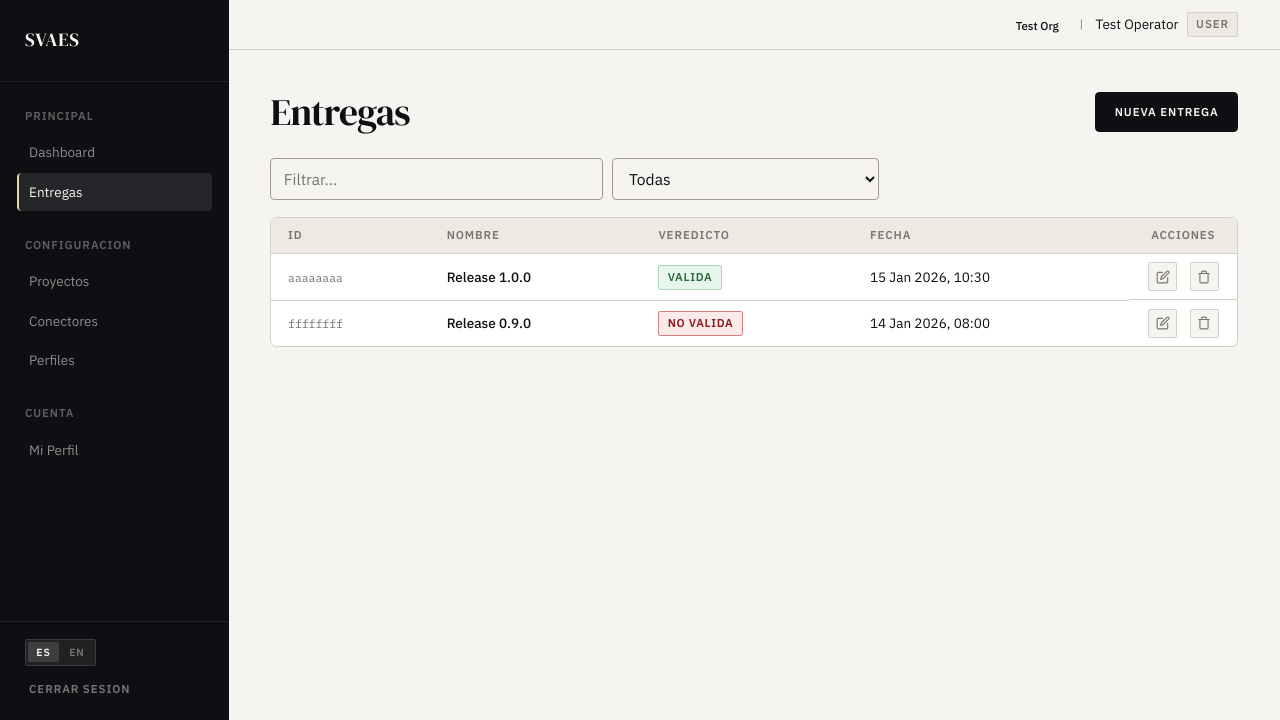
Test case: TC-ACP-CU: Ciclo de Uso Principal › TC-ACP-CU-00: CU-01 base -> VALIDA en <=5 acciones (RNF-19)
Click the row with class "clickable-row" that starts with "aaaaaaaa" at {"x": 754, "y": 277}, box [271,254,1237,300]
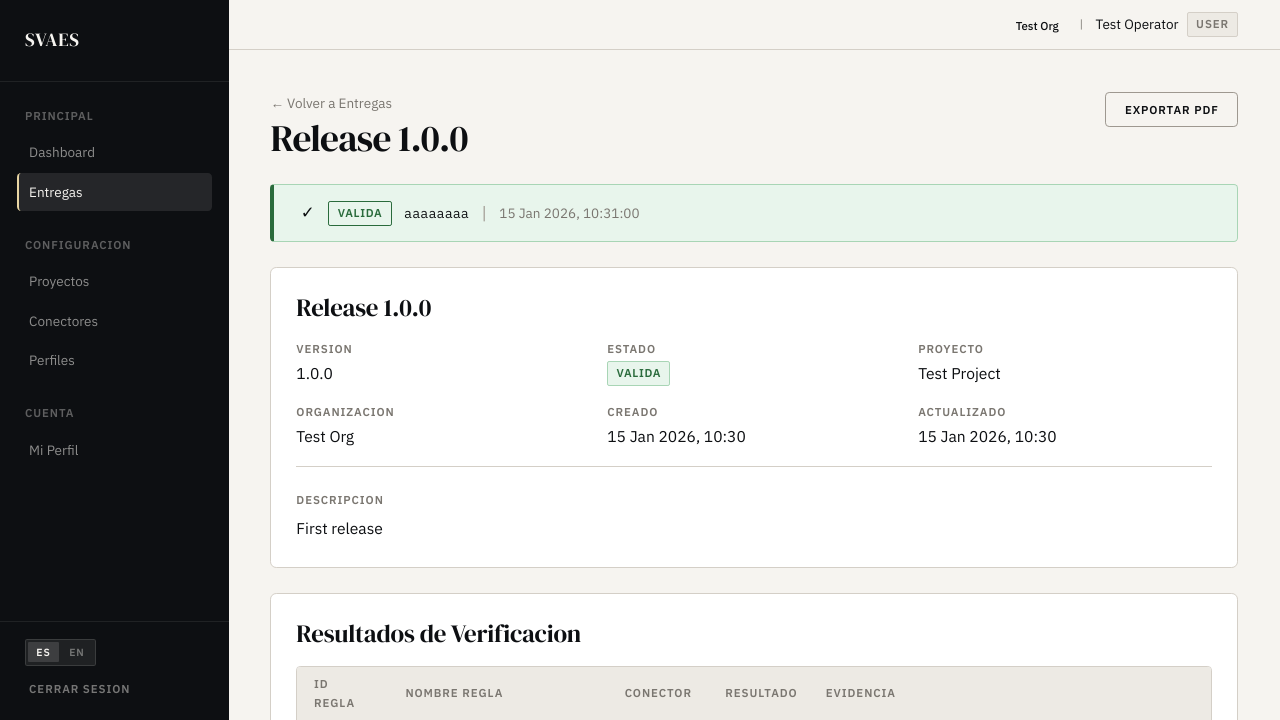
Expected: the element showing "✓ VALIDA aaaaaaaa | 15 Jan 2026, 10:31:00" is shown, [270,184,1238,242]
